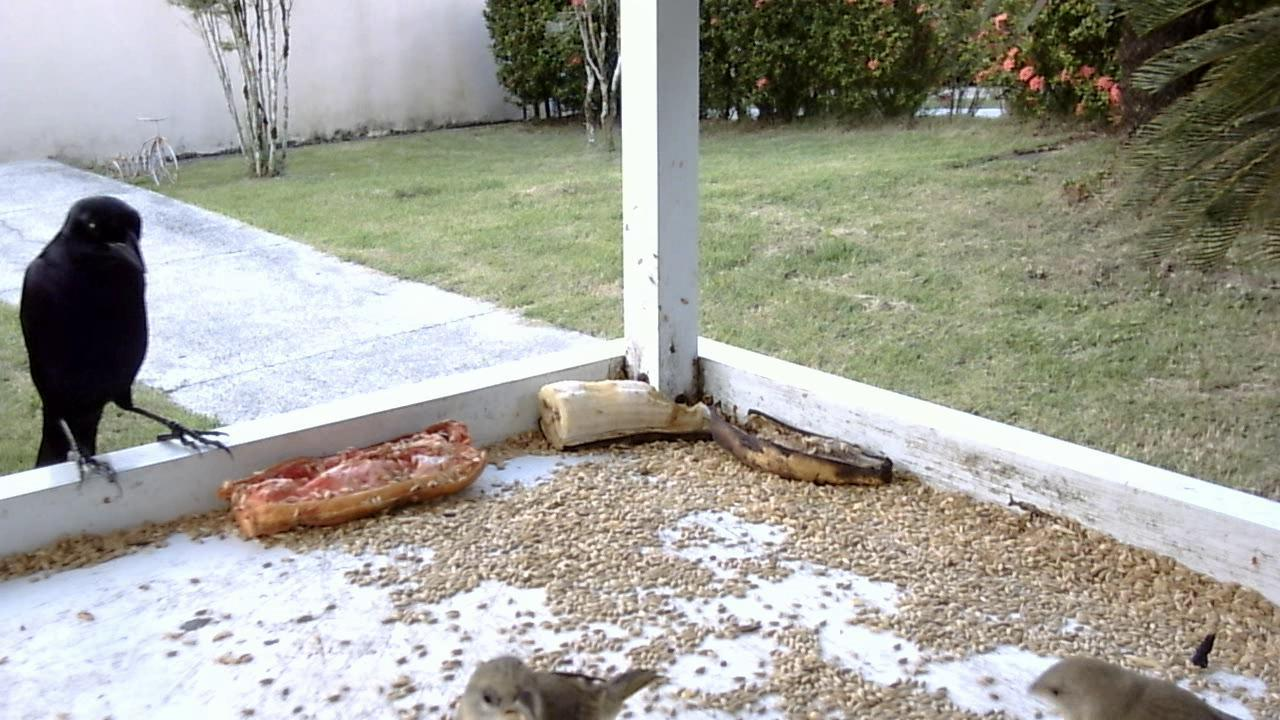canario_do_amazonas: (442, 645, 674, 720), (1019, 641, 1242, 718)
chupim: (7, 192, 241, 496)
